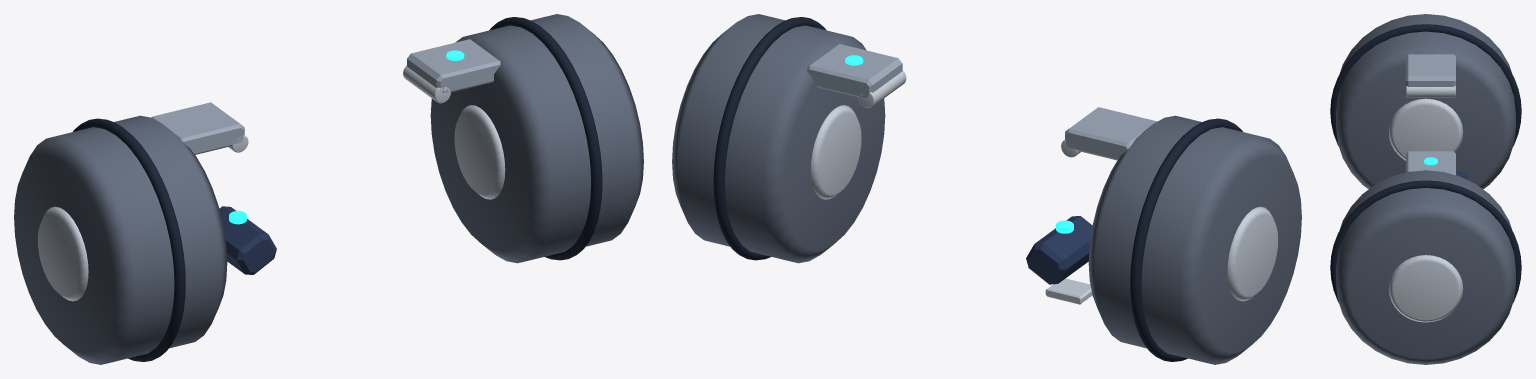
The model's file is tower_skywatch_rate_s4.glb.
3 renders of one model, left to right at view 1: azimuth 30°, elevation 25°; view 2: azimuth 150°, elevation 25°; view 3: azimuth 270°, elevation 25°, orthographic. The views are drawn at different scales.
Visible parts, largest first — view 1: skywatch_big_drum_r, skywatch_big_drum_l, skywatch_big_drum_cap_l, skywatch_big_drum_cap_r, skywatch_big_drum_rib_l, skywatch_big_drum_rib_r, skywatch_belt_guide_l, skywatch_belt_guide_r, skywatch_eject_chute, skywatch_belt_guide_roller_l; view 2: skywatch_big_drum_r, skywatch_big_drum_l, skywatch_big_drum_cap_l, skywatch_big_drum_cap_r, skywatch_big_drum_rib_l, skywatch_big_drum_rib_r, skywatch_belt_guide_l, skywatch_belt_guide_r, skywatch_eject_chute, skywatch_eject_lip, skywatch_belt_guide_roller_l; view 3: skywatch_big_drum_l, skywatch_big_drum_r, skywatch_big_drum_cap_l, skywatch_big_drum_cap_r, skywatch_big_drum_rib_r, skywatch_big_drum_rib_l, skywatch_belt_guide_r, skywatch_belt_guide_l, skywatch_belt_guide_roller_r.
Part boxes in pixels (x1,y1,x2,y2): skywatch_big_drum_r: (14, 115, 227, 364); skywatch_big_drum_l: (430, 14, 643, 263); skywatch_big_drum_cap_l: (454, 105, 505, 199); skywatch_big_drum_cap_r: (37, 206, 88, 301); skywatch_big_drum_rib_l: (489, 17, 602, 260); skywatch_big_drum_rib_r: (73, 118, 185, 361); skywatch_belt_guide_l: (407, 39, 500, 93); skywatch_belt_guide_r: (151, 102, 244, 154); skywatch_eject_chute: (219, 206, 276, 274); skywatch_belt_guide_roller_l: (403, 65, 450, 103); skywatch_big_drum_r: (1088, 115, 1301, 364); skywatch_big_drum_l: (672, 14, 885, 263); skywatch_big_drum_cap_l: (810, 105, 861, 199); skywatch_big_drum_cap_r: (1227, 206, 1278, 301); skywatch_big_drum_rib_l: (713, 17, 826, 260); skywatch_big_drum_rib_r: (1130, 118, 1242, 361); skywatch_belt_guide_l: (807, 44, 902, 97); skywatch_belt_guide_r: (1065, 107, 1157, 160); skywatch_eject_chute: (1026, 216, 1092, 284); skywatch_eject_lip: (1045, 278, 1092, 304); skywatch_belt_guide_roller_l: (858, 70, 906, 107); skywatch_big_drum_l: (1336, 170, 1515, 364); skywatch_big_drum_r: (1336, 14, 1515, 189); skywatch_big_drum_cap_l: (1388, 255, 1463, 322); skywatch_big_drum_cap_r: (1388, 98, 1463, 160); skywatch_big_drum_rib_r: (1330, 24, 1521, 146); skywatch_big_drum_rib_l: (1330, 180, 1521, 302); skywatch_belt_guide_r: (1406, 54, 1455, 86); skywatch_belt_guide_l: (1406, 151, 1455, 175); skywatch_belt_guide_roller_r: (1406, 86, 1455, 97).
Size of the model in its own units: 1.92 by 0.766 by 0.766.
